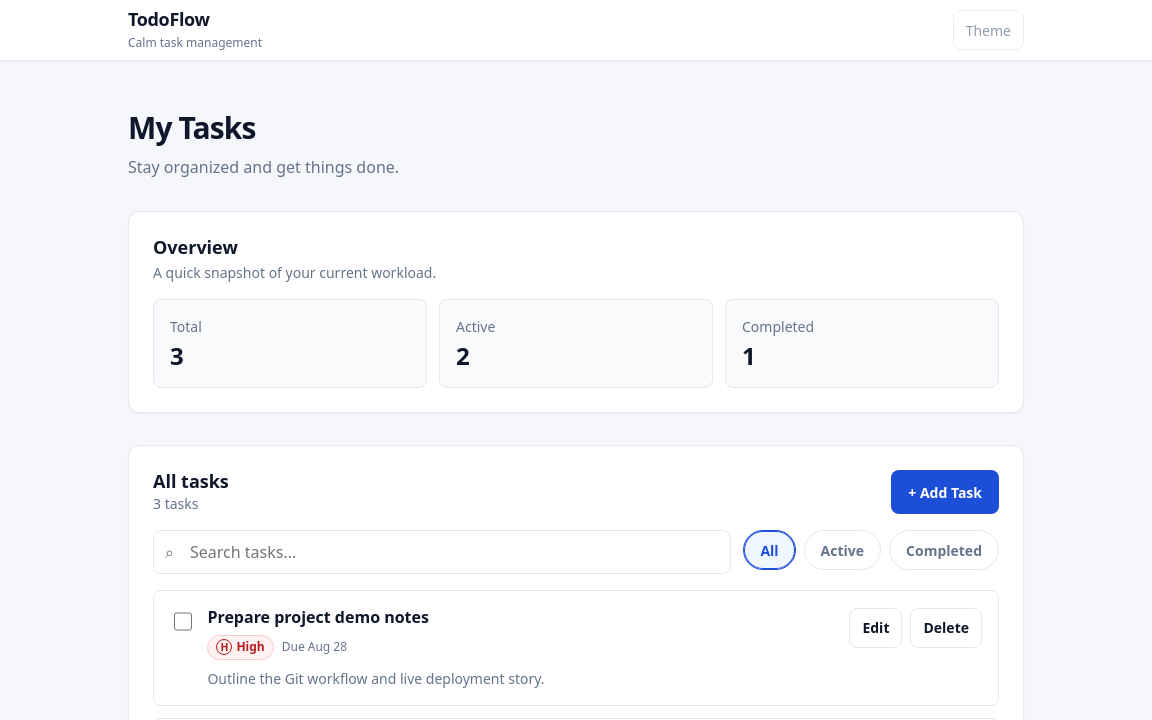
TodoFlow App › creates a task through the API and updates the UI
Expected: the text "Prepare project demo notes" is shown, [207,606,429,628]
Click the button "+ Add Task": [945, 492] box [891,470,999,514]
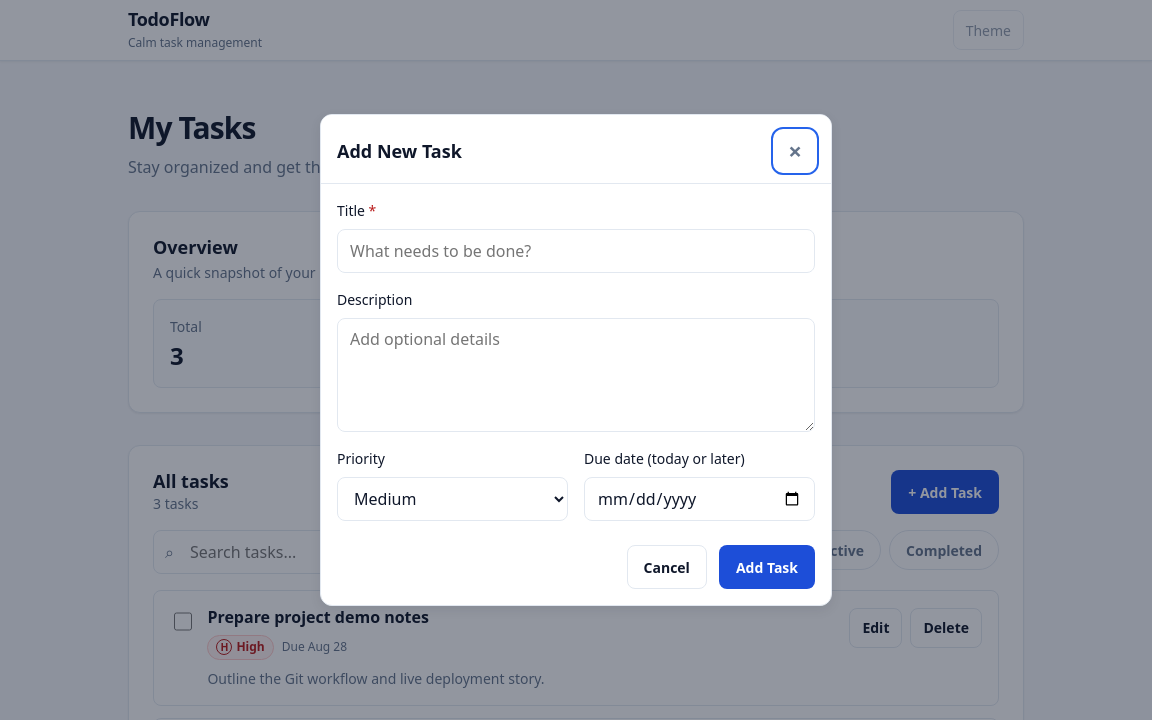
Result: the dialog "Add New Task" is shown at [320,114,832,606]
Click the button "Add Task": [767, 567] box [719,545,815,589]
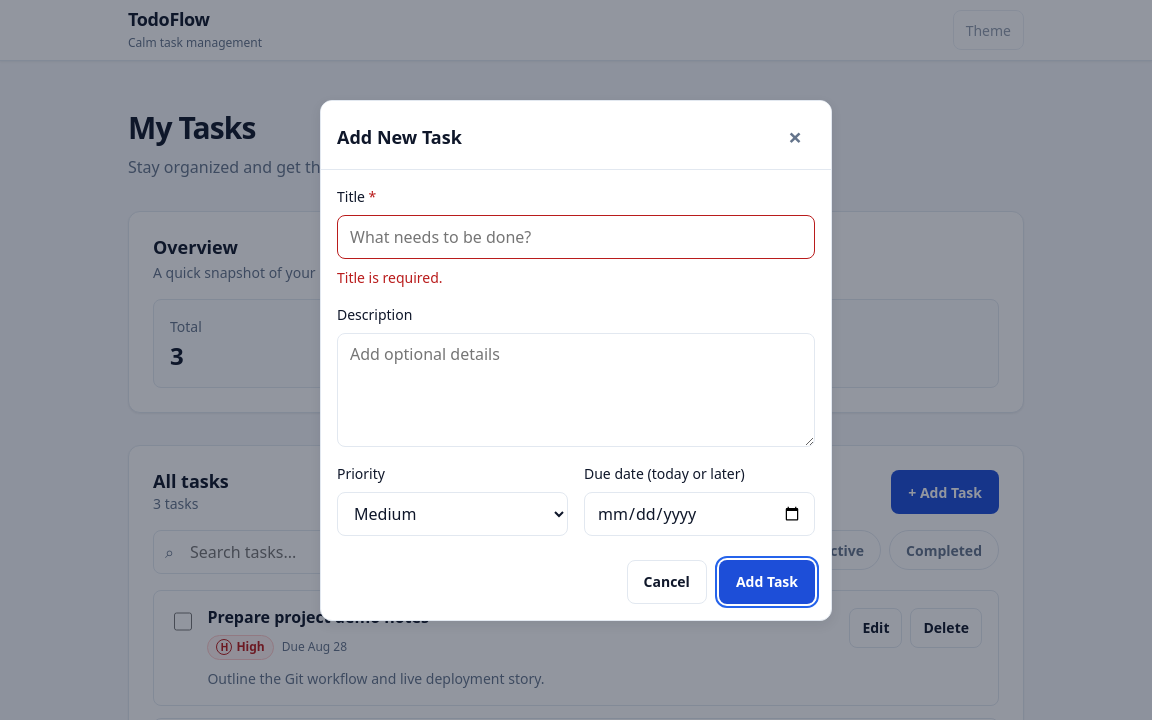
Result: the message reads "Title is required." at [337,268,443,286]
In the field labelled "Title *": [576, 236] box [337,214,815,258], type "Ship frontend tests"
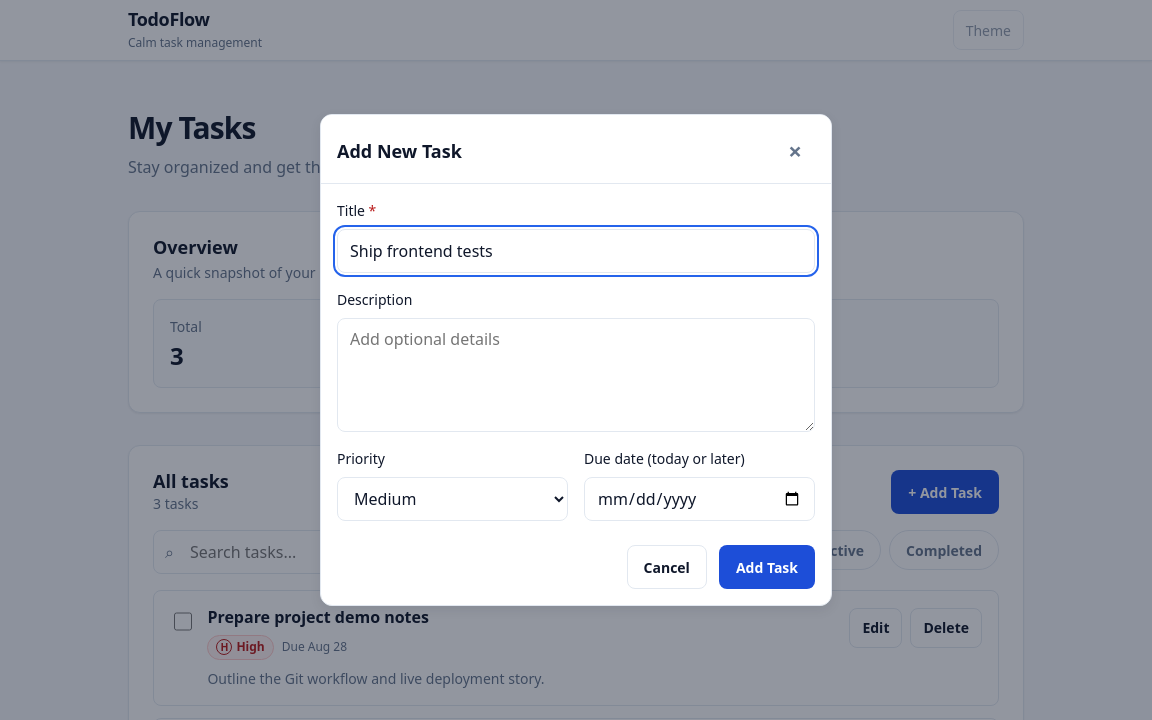
In the text box labelled "Description": [576, 375] box [337,318,815,432], type "Cover add edit filter and search"
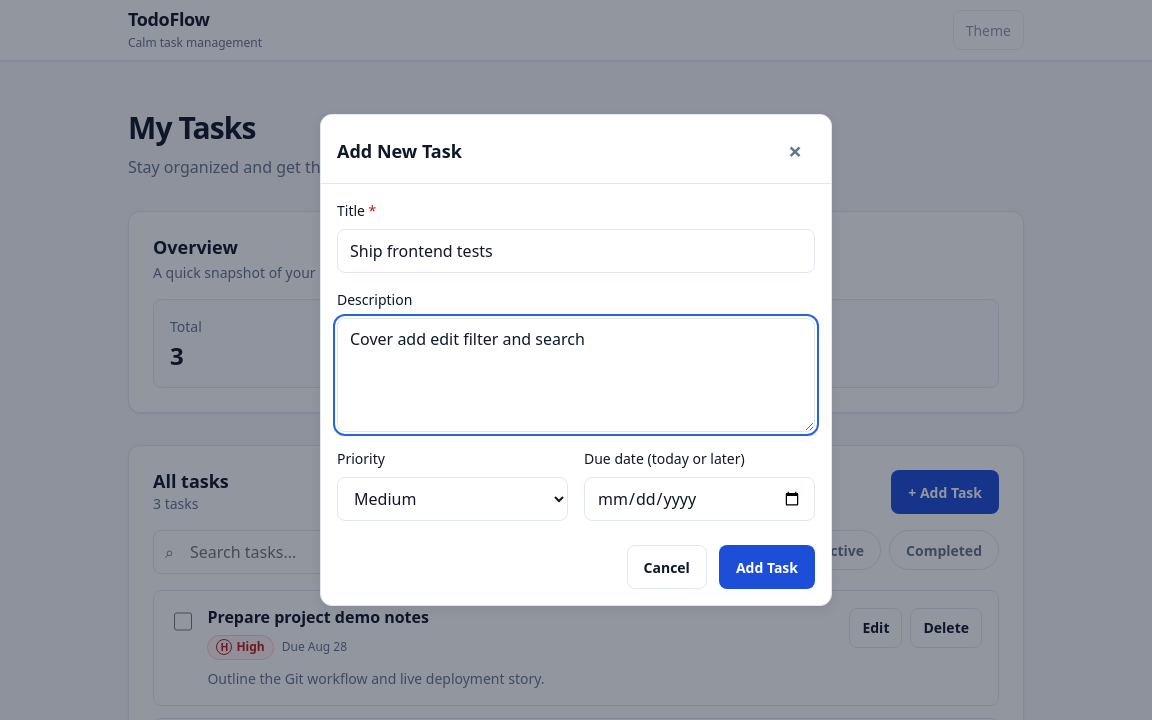
Click the button "Add Task": [767, 567] box [719,545,815,589]
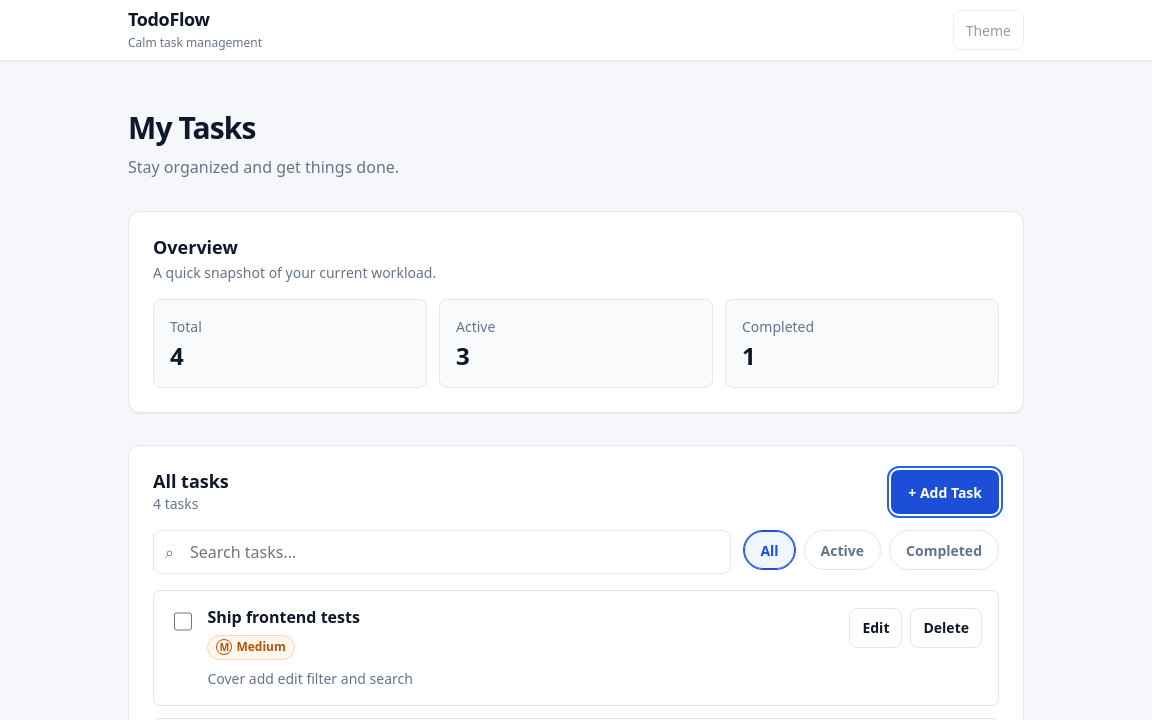
Result: the heading "Add New Task" is gone
Result: the text "Ship frontend tests" is shown at [207,606,360,628]
Result: the checkbox named "Mark “Ship frontend tests” as complete" is shown at [174,612,192,631]
